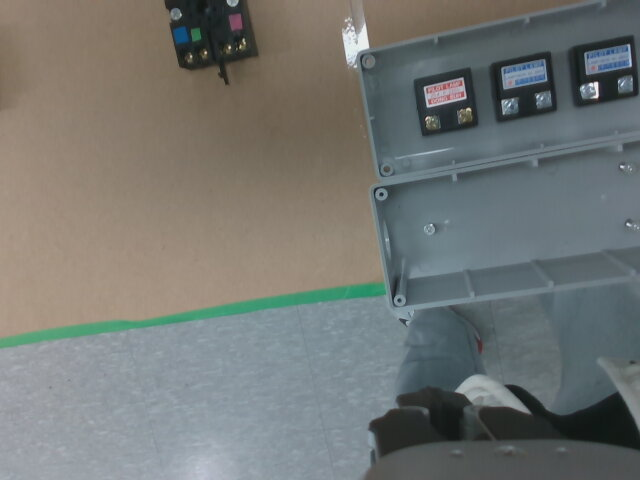L1(1): (424, 116, 440, 131)
L1(2): (457, 110, 473, 124)
L2(1): (502, 99, 518, 115)
L2(2): (537, 92, 551, 107)
L3(1): (580, 84, 599, 99)
L3(2): (616, 76, 632, 93)
